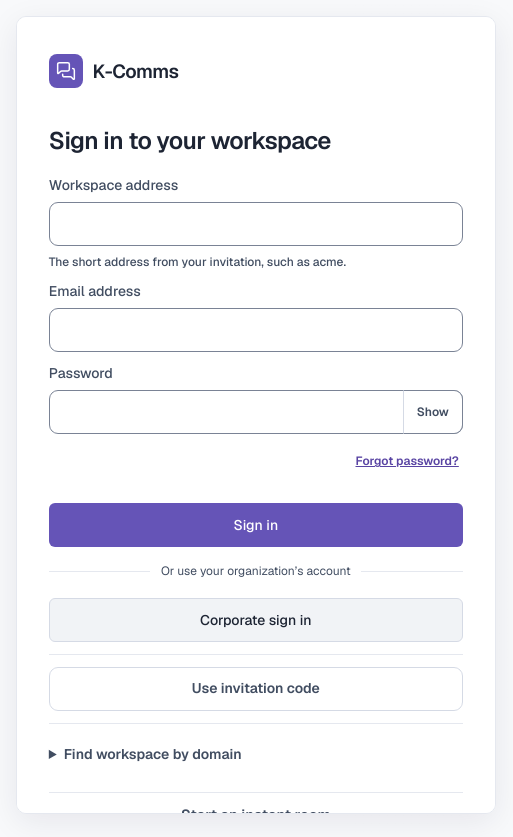
it: AuthScreen › rejects the unsafe corporate authorization address http://idp.example.test/authorize
Step 1. Type "acme" into the field labelled "Workspace address" → [256, 224], box [49,202,463,246]
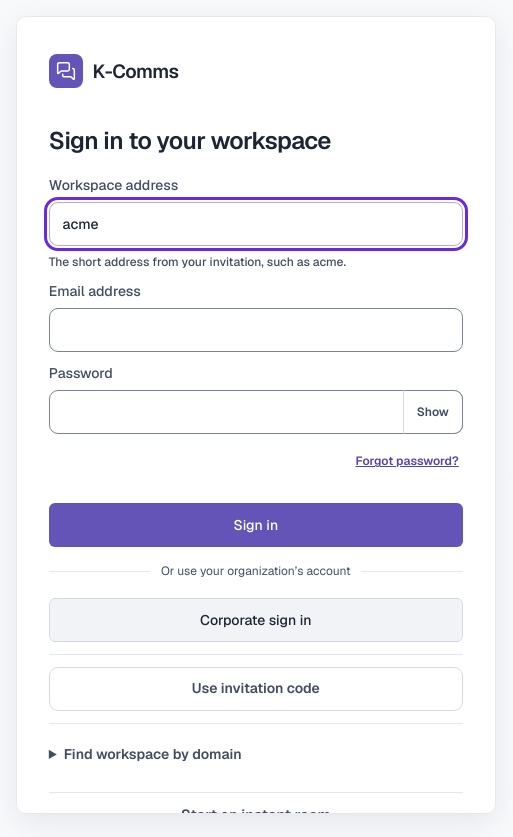
Step 2. Click the button "Corporate sign in" → [256, 620], box [49,598,463,642]
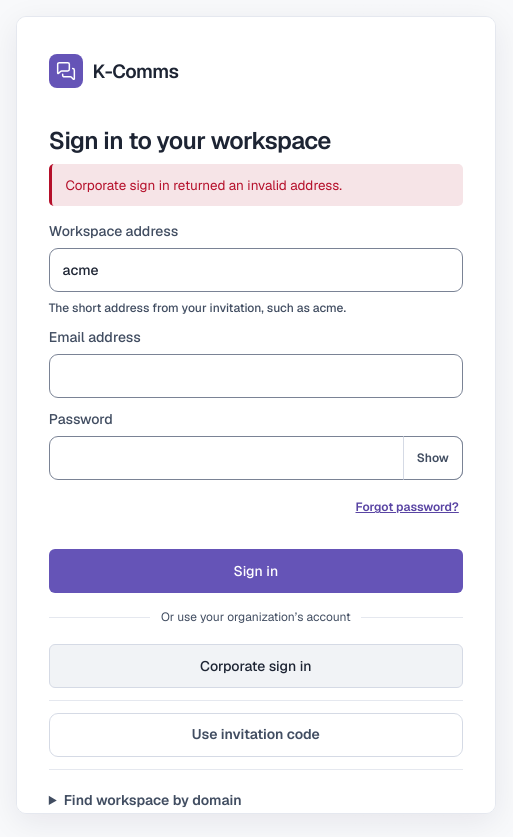
Expected: the message reads "Corporate sign in returned an invalid address.", [65,176,342,194]
